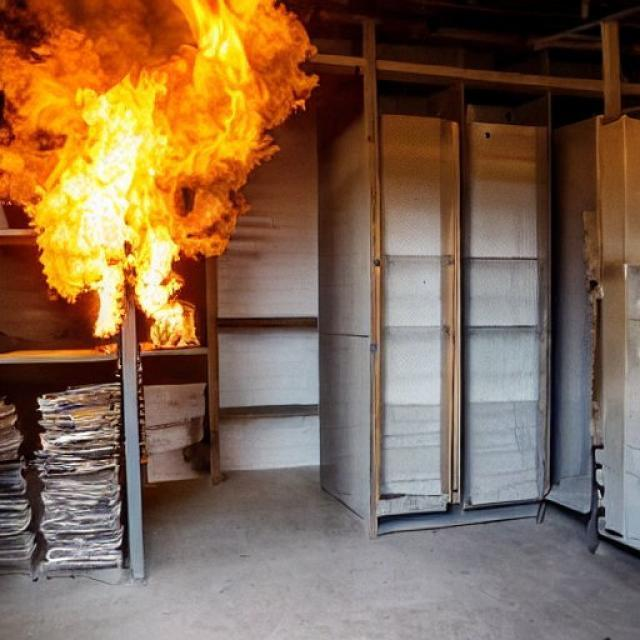Fire: (0, 0, 278, 359)
